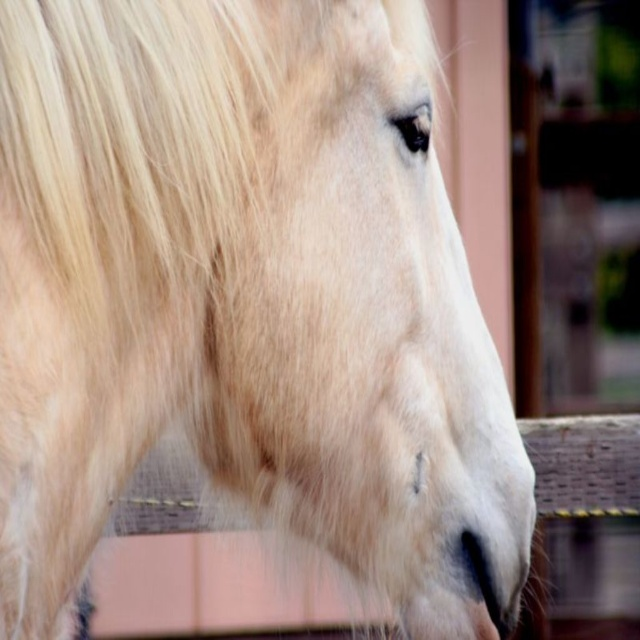Horse: (0, 0, 558, 639)
